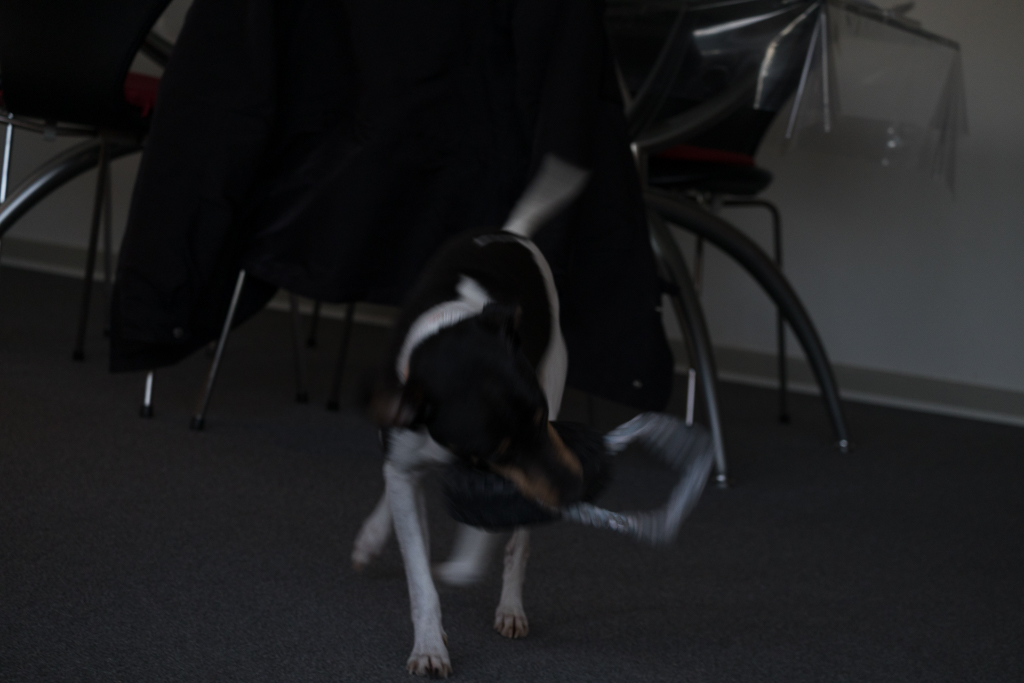Dog: (339, 139, 622, 683)
